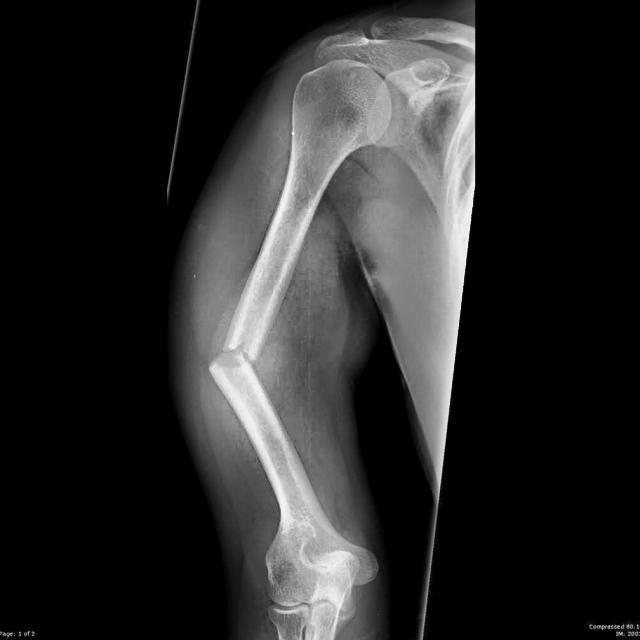fracture: (205, 342, 262, 375)
